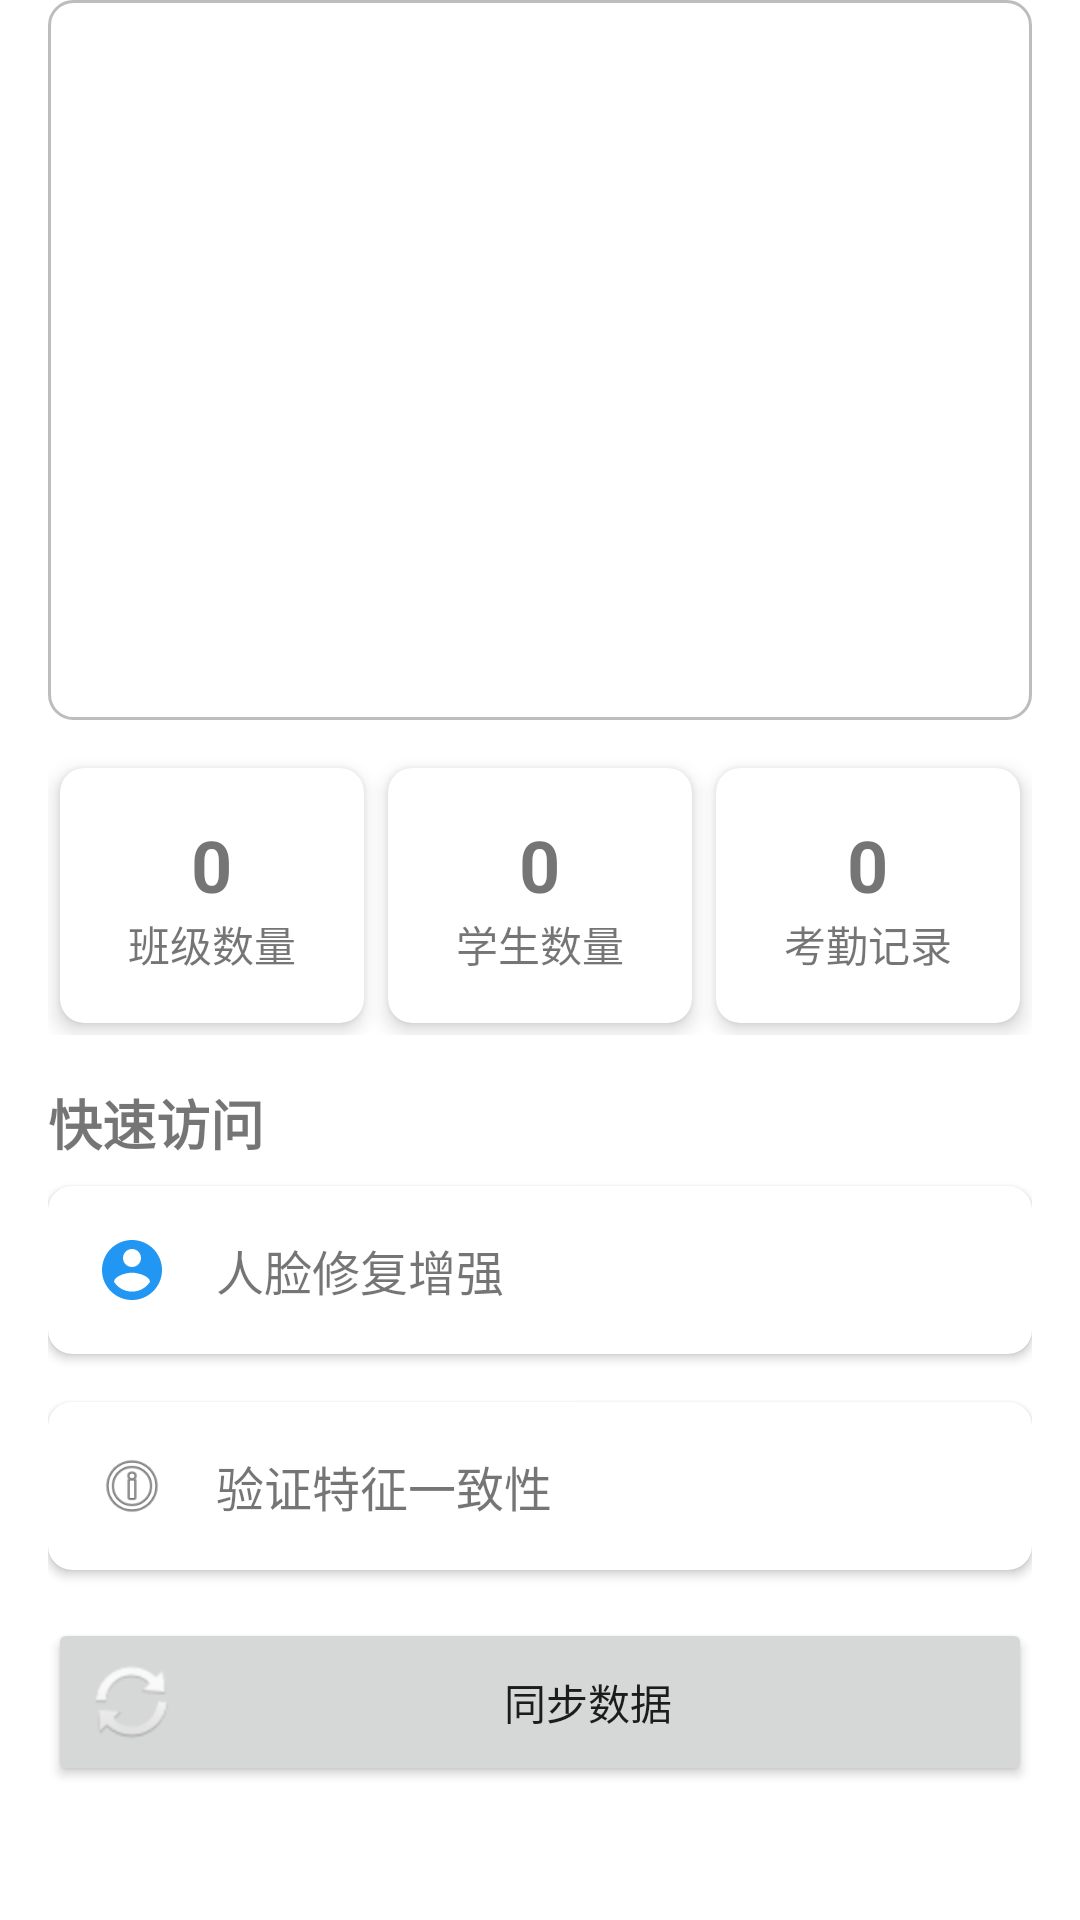

Screen size 1080×1920. Icon name, then its box in pixels as Rect(x1, y1, x2, y2):
info details: Rect(106, 1460, 158, 1512)
